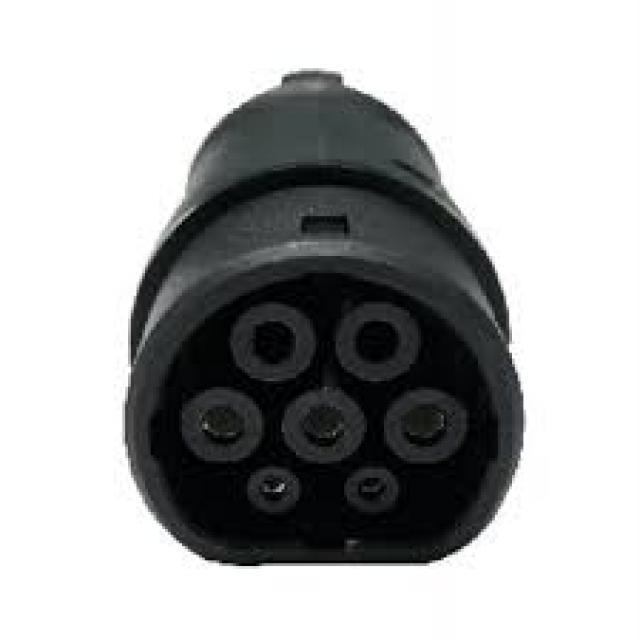Type 2: (119, 258, 543, 588)
